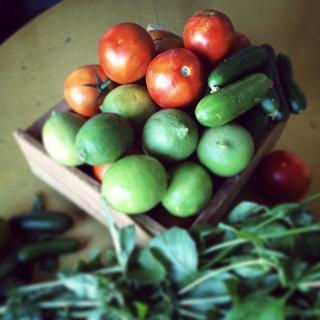tomato: (96, 24, 156, 85), (147, 48, 207, 108), (253, 146, 311, 198), (179, 9, 235, 62), (62, 63, 110, 120), (228, 30, 250, 60), (154, 35, 181, 56), (90, 165, 112, 181)
